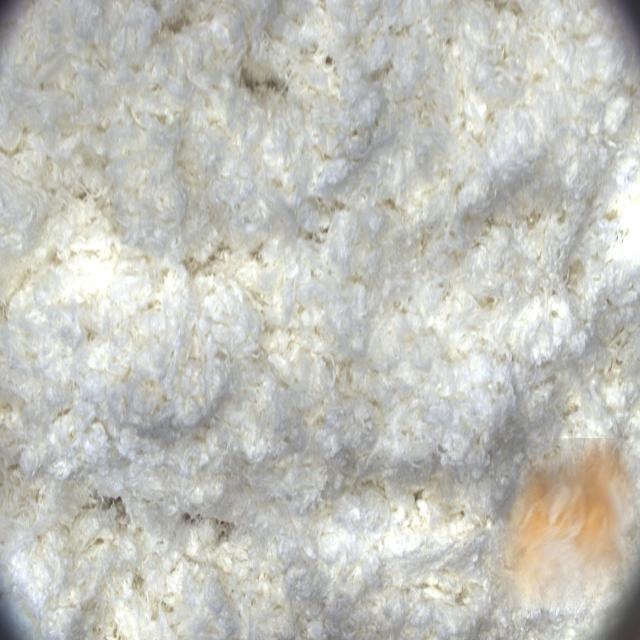dust: (490, 438, 640, 607)
